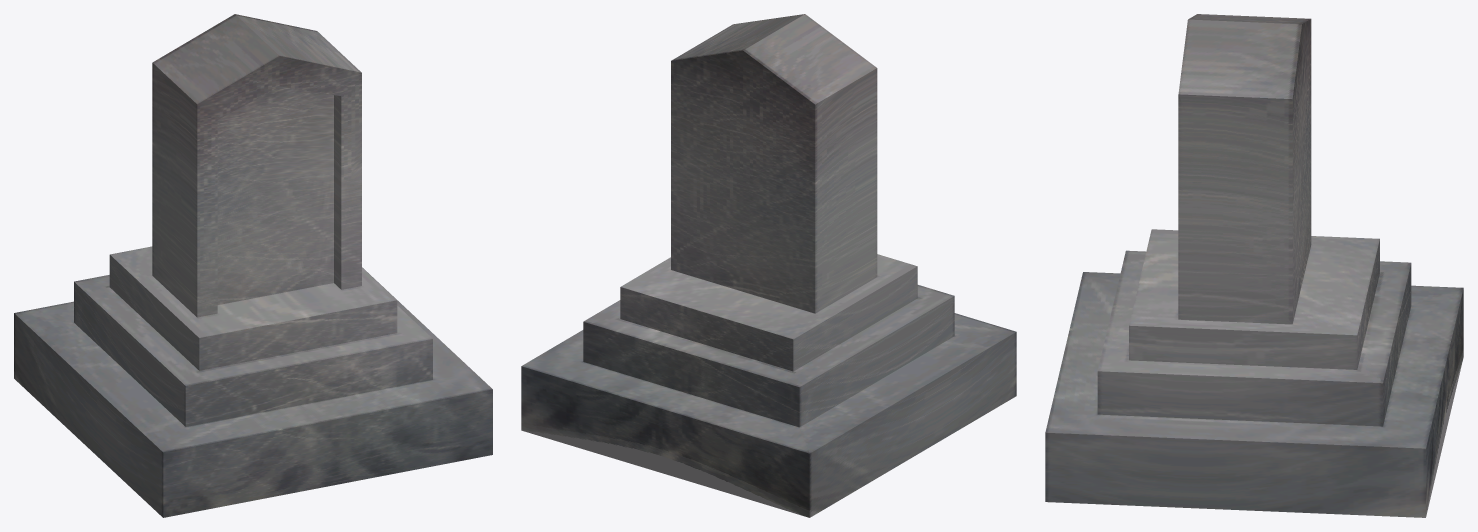
Rendered from GraveOfAArtorias.fbx.
The picture shows the model from 3 angles, left to right: view 1: azimuth 30°, elevation 25°; view 2: azimuth 150°, elevation 25°; view 3: azimuth 270°, elevation 25°; orthographic projection. The views are drawn at different scales.
Visible parts, largest first — view 1: root; view 2: root; view 3: root.
Part boxes in pixels (box(x1,y1,x2,y2)): root: box(14, 14, 492, 517); root: box(521, 14, 1016, 517); root: box(1045, 14, 1463, 517).
Bounding box in the file's own units: 0.4766 × 0.512 × 0.4766.
1 material, 1 textured.
